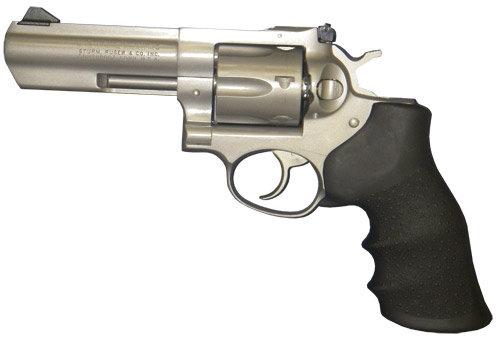Arma Real: (2, 5, 497, 334)
